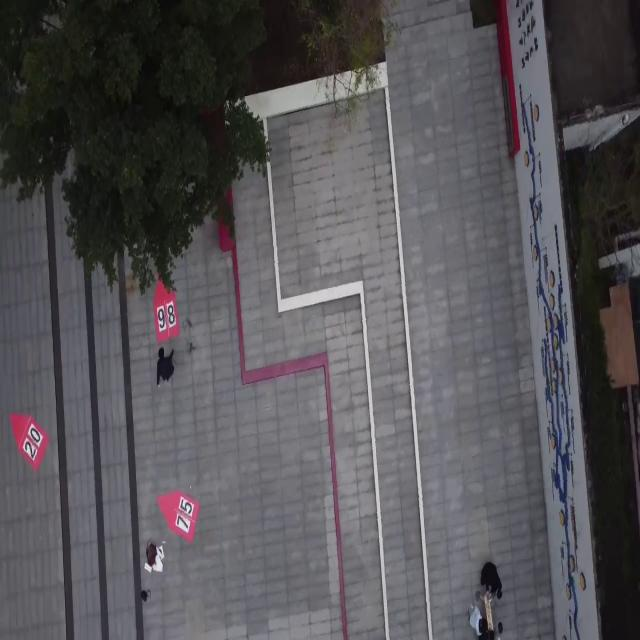-sign-: (152, 477, 206, 548), (5, 408, 56, 478), (150, 258, 188, 350)
